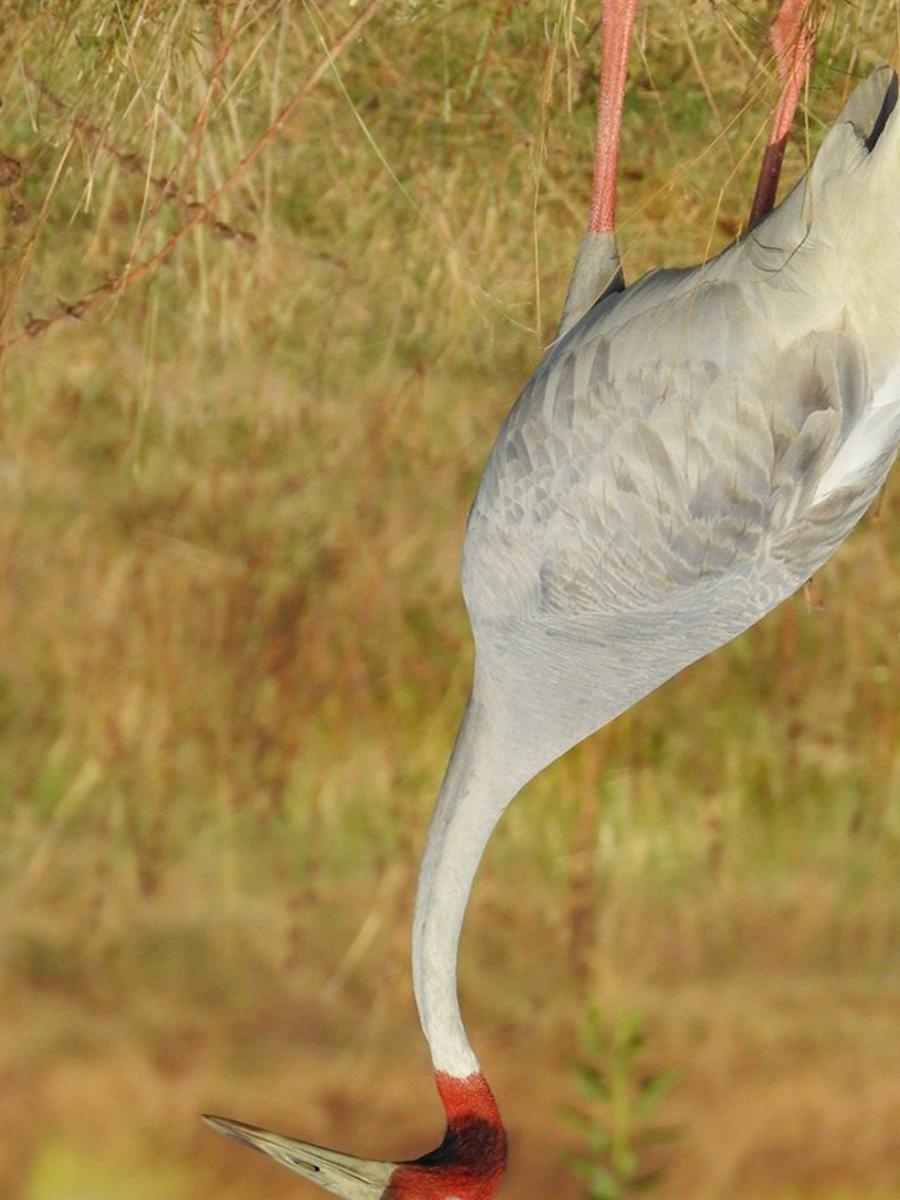crane: (193, 6, 900, 1189)
